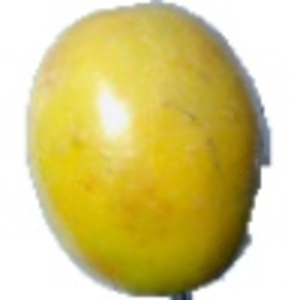maracujá: (23, 1, 274, 300)
